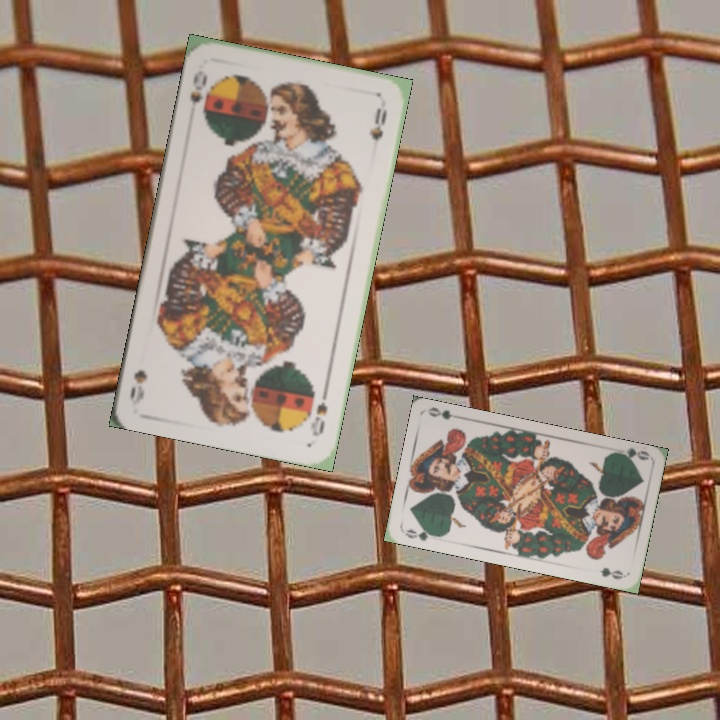GO: (609, 444, 651, 465), (401, 524, 441, 543)
SO: (185, 66, 214, 122), (306, 383, 331, 439)
